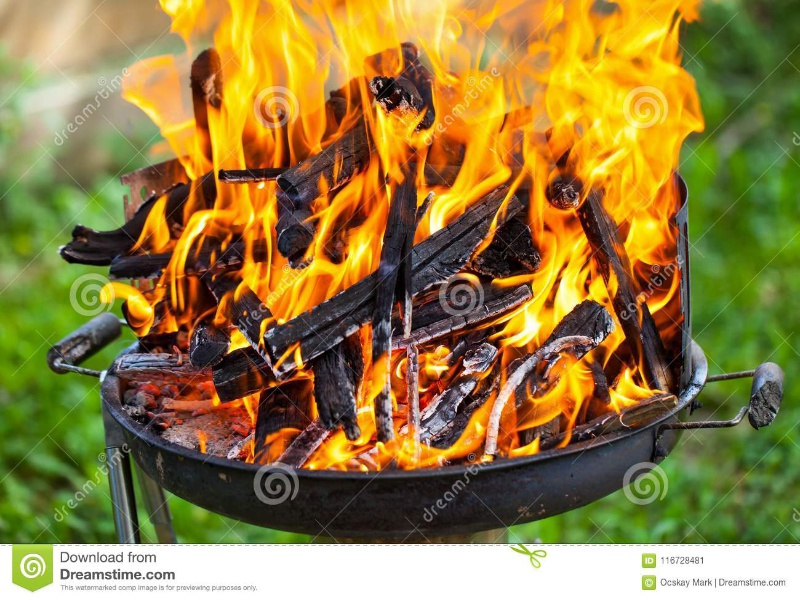fire: (105, 2, 703, 475)
